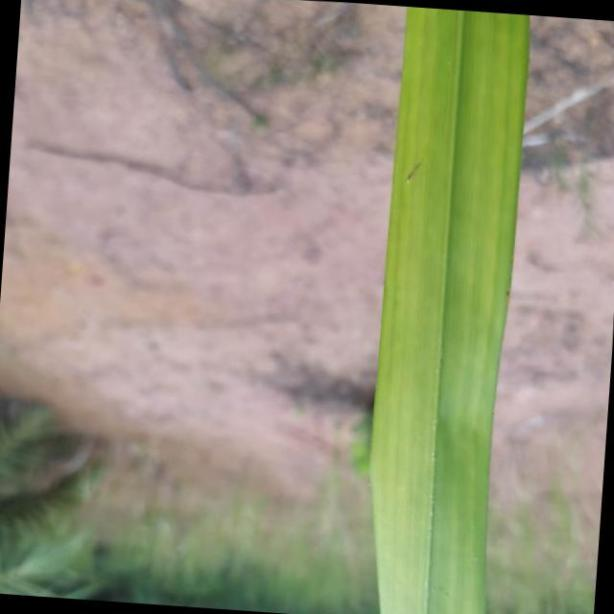nitrogen: (364, 0, 531, 614)
